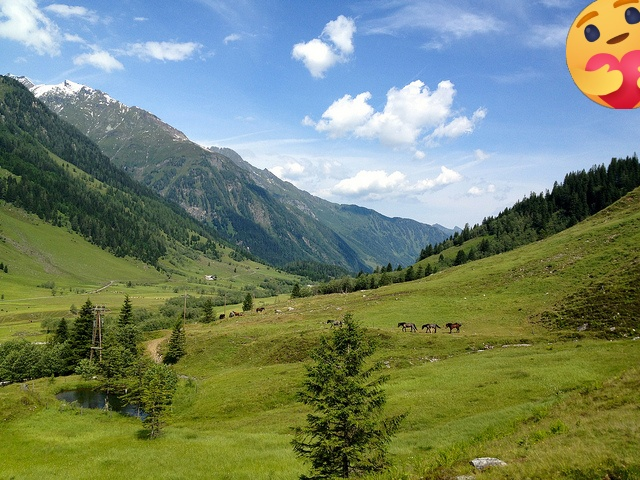care: (566, 0, 640, 109)
